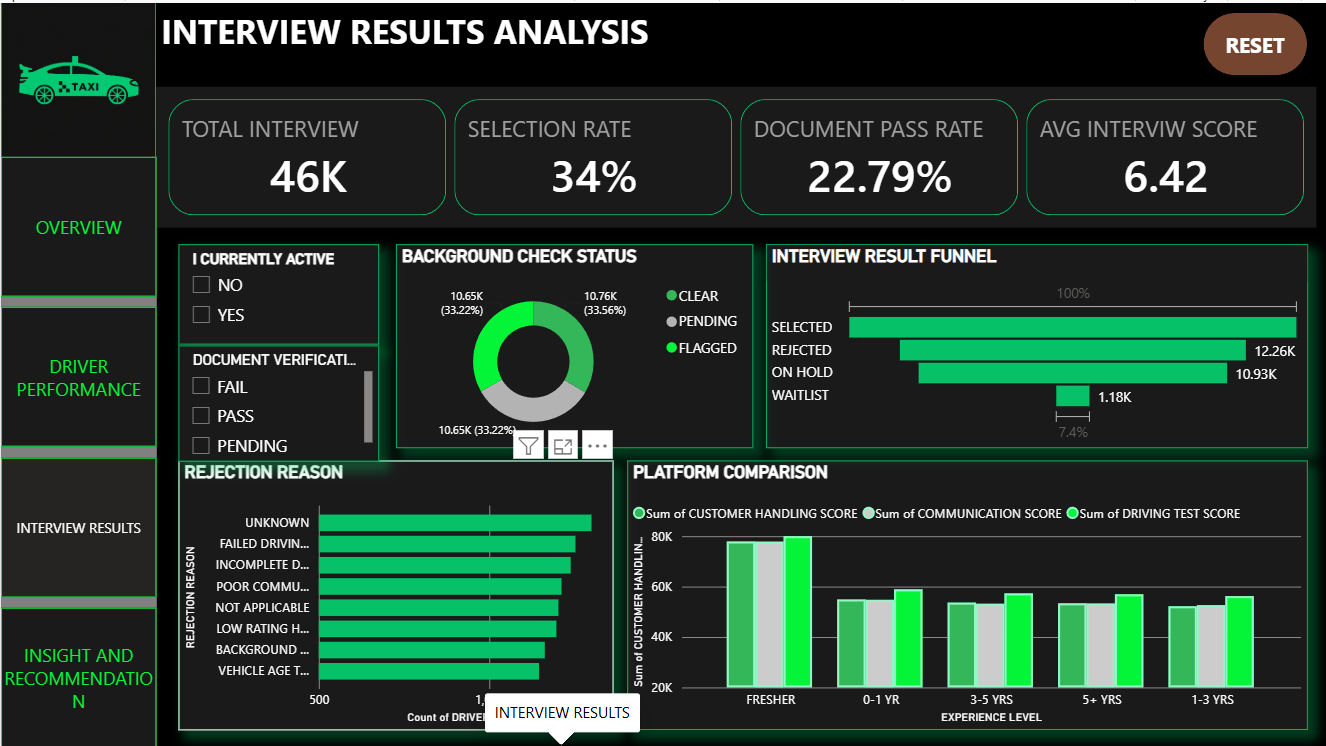

Layout of this report page (visuals, bound fields, positions):
{"tool":"powerbi","page":{"name":"INTERVIEW RESULTS","canvas":[1280,720],"ordinal":2},"visuals":[{"type":"clusteredColumnChart","title":"PLATFORM COMPARISON","fields":{"Y":["Sum(CLEANED UBER DRIVER DATASET.CUSTOMER HANDLING SCORE)","Sum(CLEANED UBER DRIVER DATASET.COMMUNICATION SCORE)","Sum(CLEANED UBER DRIVER DATASET.DRIVING TEST SCORE)"],"Category":["CLEANED UBER DRIVER DATASET.EXPERIENCE LEVEL"]},"box":[605,441.7,656.7,260],"z":0},{"type":"textbox","box":[150,0,546.7,80],"z":1000},{"type":"cardVisual","fields":{"Data":["measure.TOTAL INTERVIEW","measure.SELECTION RATE","measure.DOCUMENT PASS RATE","measure.AVG INTERVIW SCORE"]},"box":[150,80.7,1122,136],"z":2000},{"type":"shape","box":[0,0,149.2,716.4],"z":3000},{"type":"funnel","title":" INTERVIEW RESULT FUNNEL","fields":{"Category":["CLEANED UBER DRIVER DATASET.INTERVIEW RESULT "],"Y":["CountNonNull(CLEANED UBER DRIVER DATASET.DRIVER ID)"]},"box":[738.3,233.3,523.3,196.7],"z":4000},{"type":"donutChart","title":"BACKGROUND CHECK STATUS","fields":{"Category":["CLEANED UBER DRIVER DATASET.BACKGROUND CHECK STATUS"],"Y":["CountNonNull(CLEANED UBER DRIVER DATASET.DRIVER ID)"]},"box":[381.7,233.3,345,196.7],"z":5000},{"type":"barChart","title":"REJECTION REASON","fields":{"Category":["CLEANED UBER DRIVER DATASET.REJECTION REASON"],"Y":["CountNonNull(CLEANED UBER DRIVER DATASET.DRIVER ID)"]},"box":[171.7,441.7,420,260],"z":6000},{"type":"slicer","fields":{"Values":["CLEANED UBER DRIVER DATASET.IS CURRENTLY ACTIVE"]},"box":[171.7,233.3,193.3,96.7],"z":7000},{"type":"slicer","fields":{"Values":["CLEANED UBER DRIVER DATASET.DOCUMENT VERIFICATION"]},"box":[171.7,330,193.3,111.7],"z":8000},{"type":"actionButton","box":[1160,10,100,60],"z":8001},{"type":"pageNavigator","box":[0,148.3,150,571.7],"z":8002},{"type":"image","box":[0,0,150,148.3],"z":8003}]}

Visuals, with their boxes in screenshot pixels (x1, y1, x2, y2), scaled from the page's 1280x720 canvas onto the 1326x746 screenshot:
"PLATFORM COMPARISON" clusteredColumnChart: [left=627, top=458, right=1307, bottom=727]
textbox: [left=155, top=0, right=722, bottom=83]
cardVisual - measure.TOTAL INTERVIEW x measure.SELECTION RATE: [left=155, top=84, right=1318, bottom=225]
shape: [left=0, top=0, right=155, bottom=742]
" INTERVIEW RESULT FUNNEL" funnel: [left=765, top=242, right=1307, bottom=446]
"BACKGROUND CHECK STATUS" donutChart: [left=395, top=242, right=753, bottom=446]
"REJECTION REASON" barChart: [left=178, top=458, right=613, bottom=727]
slicer - CLEANED UBER DRIVER DATASET.IS CURRENTLY ACTIVE: [left=178, top=242, right=378, bottom=342]
slicer - CLEANED UBER DRIVER DATASET.DOCUMENT VERIFICATION: [left=178, top=342, right=378, bottom=458]
actionButton: [left=1202, top=10, right=1305, bottom=73]
pageNavigator: [left=0, top=154, right=155, bottom=745]
image: [left=0, top=0, right=155, bottom=154]
